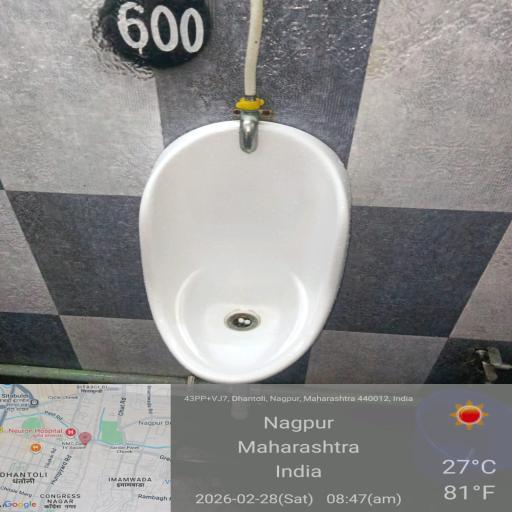clean_floor: (10, 18, 512, 139), (25, 371, 512, 487)
clean_urinal: (111, 90, 377, 377)
